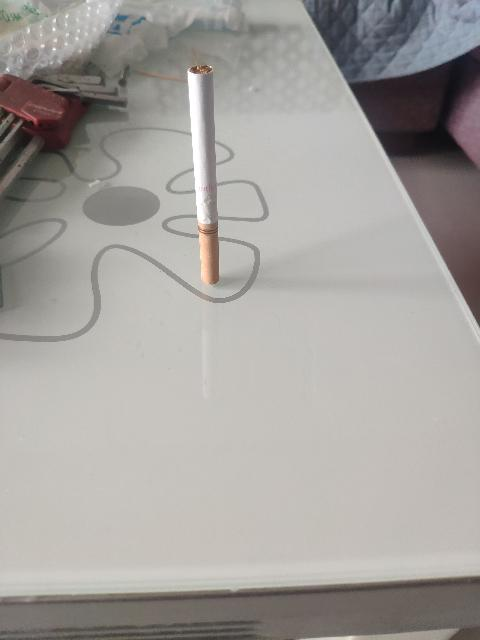Cigarette: (188, 66, 222, 284)
